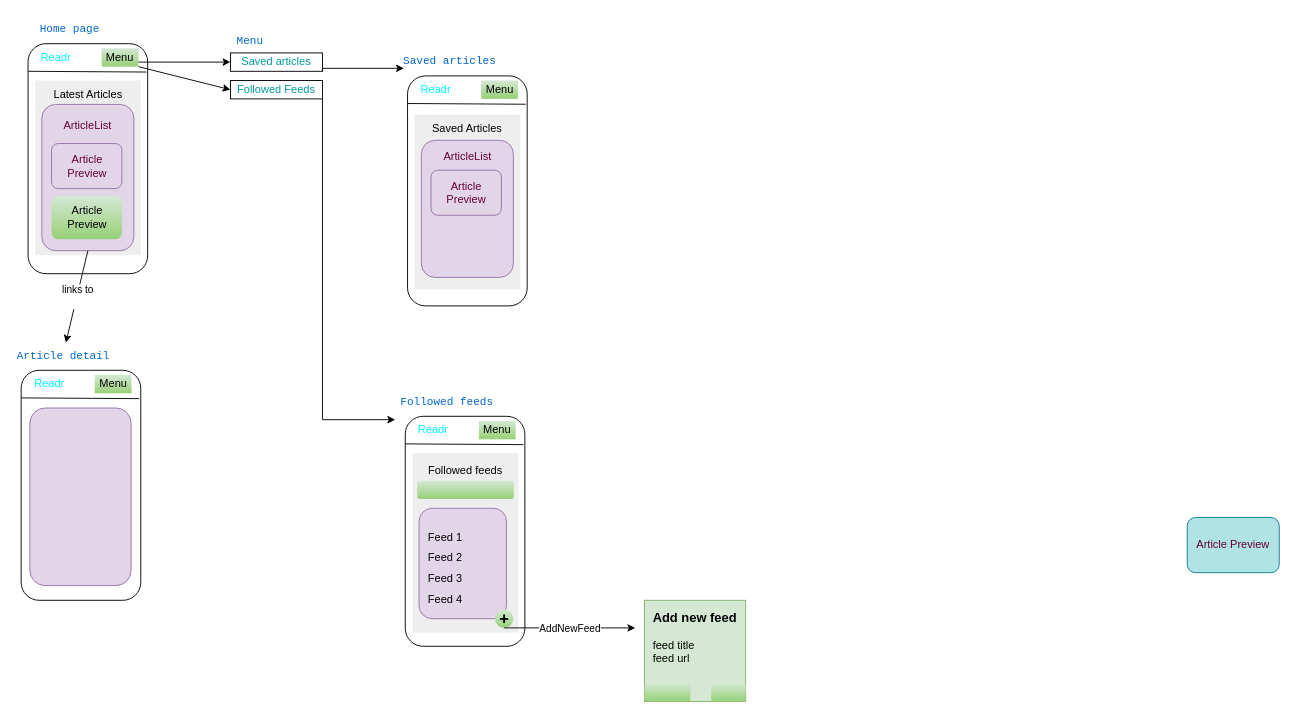
Image size: 1295x720. Some labels were removed from this diagram. Here are the shapes that lost their labels. From the top down, the box of each, then its label:
(29, 407, 131, 586): ArticleDetail Title author, date [img] content keywords
(417, 480, 513, 499): searchbar
(418, 507, 506, 619): FeedList
(644, 683, 690, 701): cancel
(711, 683, 745, 701): add
